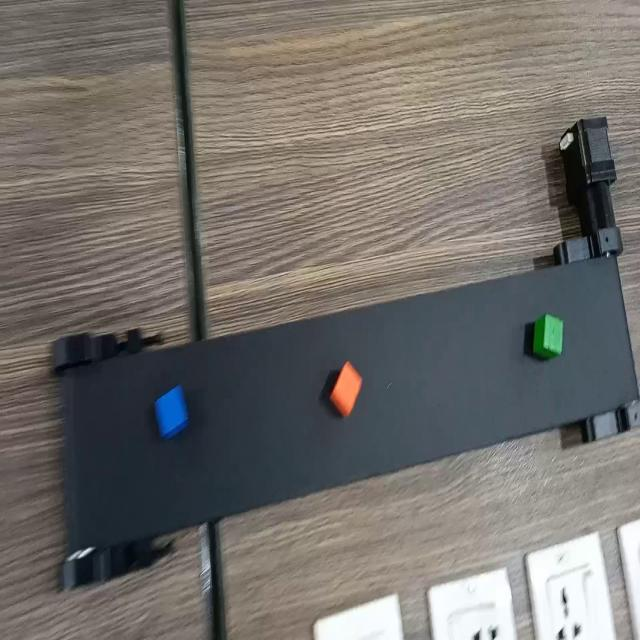cube: (150, 379, 196, 441), (525, 309, 569, 363)
